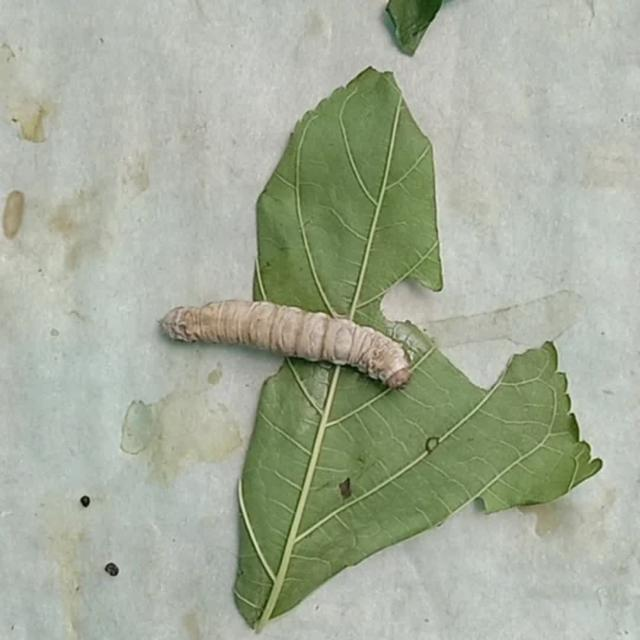Grasserie: (153, 282, 417, 403)
